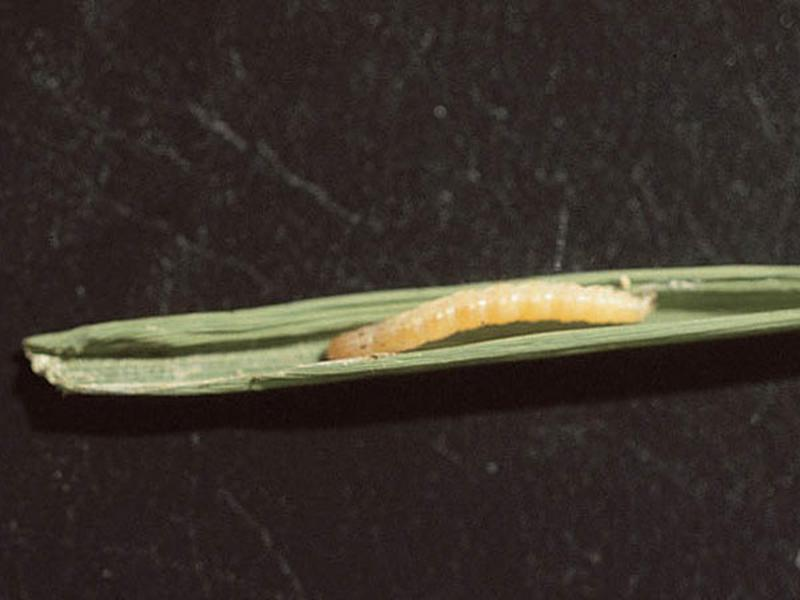Leaf_folder: (297, 271, 665, 374)
